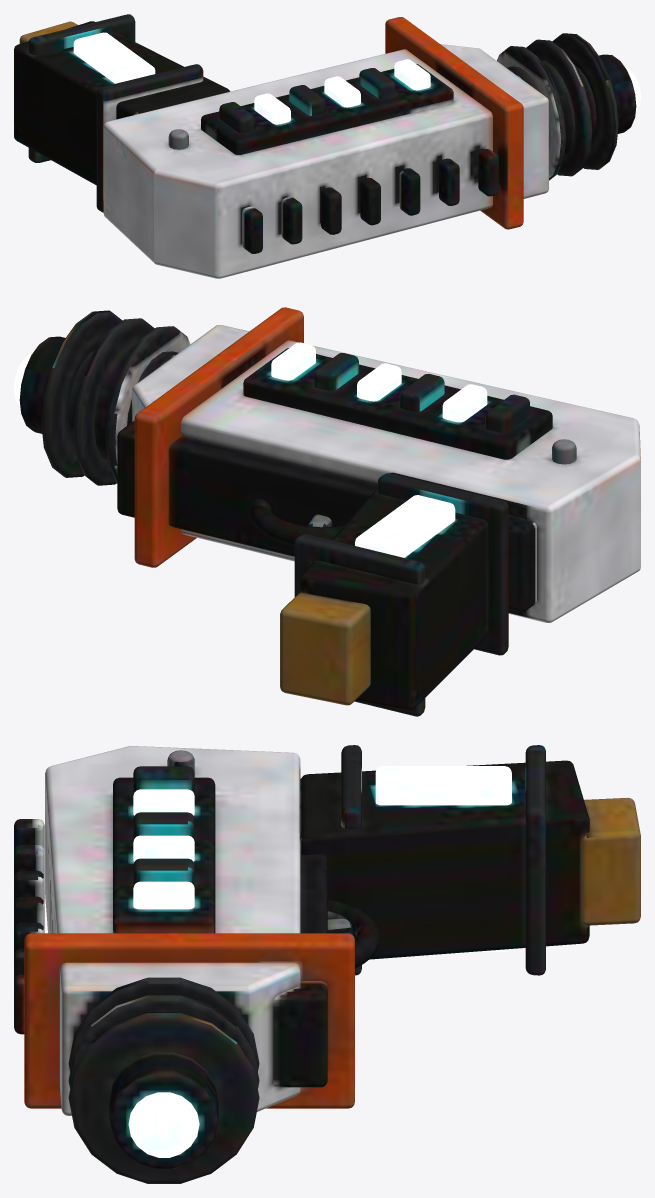
The model's file is laser_pistol.glb.
3 renders of one model, top to bottom at view 1: azimuth 30°, elevation 25°; view 2: azimuth 150°, elevation 25°; view 3: azimuth 270°, elevation 25°, orthographic. The views are drawn at different scales.
Visible parts, largest first — view 1: laser_pistol; view 2: laser_pistol; view 3: laser_pistol.
Boxes of the visible parts, x1=… form: laser_pistol: x1=14, y1=14, x2=640, y2=278; laser_pistol: x1=14, y1=307, x2=640, y2=716; laser_pistol: x1=14, y1=745, x2=640, y2=1183.
Bounding box in the file's own units: 0.225 × 0.066 × 0.1838.
Materials: 2 (2 with a texture image).
